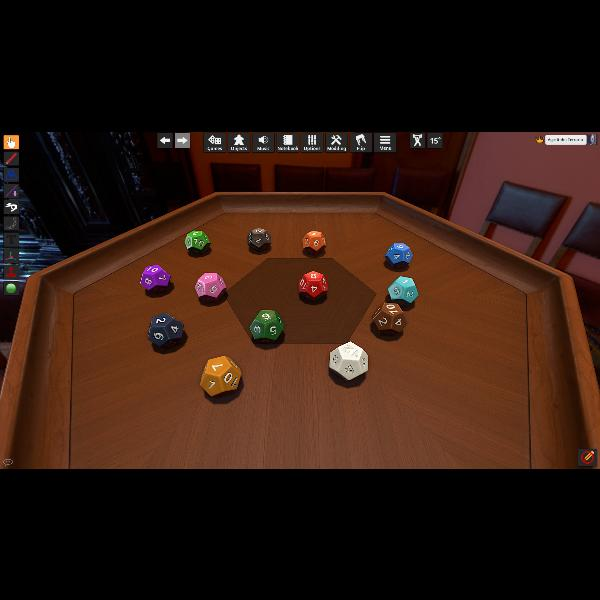d12: (200, 356, 242, 397), (327, 340, 364, 379), (148, 312, 184, 348), (249, 310, 283, 342), (374, 302, 406, 334), (194, 271, 225, 301), (387, 276, 418, 306), (141, 264, 171, 292), (385, 242, 413, 270), (298, 272, 324, 300), (184, 230, 209, 254), (247, 227, 271, 251), (302, 230, 326, 254)
